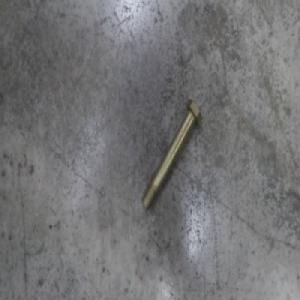Bolt: (141, 97, 201, 212)
